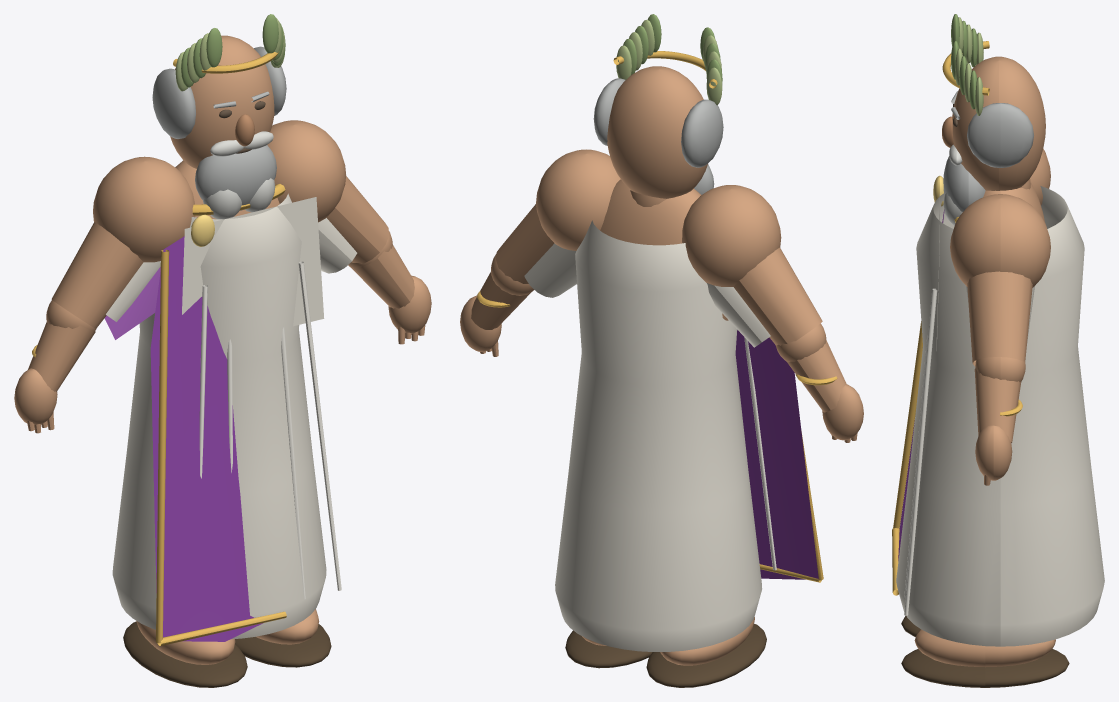
File: eratosthenes.glb
3 views of the same model, side by side, from view 1: azimuth 30°, elevation 25°; view 2: azimuth 150°, elevation 25°; view 3: azimuth 270°, elevation 25° (orthographic). The views are drawn at different scales.
Parts seen in each view (by area): view 1: Eratosthenes flowing white chiton, Eratosthenes cloak drape, Eratosthenes shoulder -1, Eratosthenes face, Eratosthenes shoulder 1, Eratosthenes upper arm -1, Eratosthenes chiton bodice, Eratosthenes sole -1, Eratosthenes cloak gold edge 1, Eratosthenes short beard, Eratosthenes upper arm 1, Eratosthenes forearm -1 (+19 smaller); view 2: Eratosthenes flowing white chiton, Eratosthenes cloak drape, Eratosthenes face, Eratosthenes shoulder -1, Eratosthenes shoulder 1, Eratosthenes upper arm -1, Eratosthenes torso, Eratosthenes sole -1, Eratosthenes upper arm 1, Eratosthenes temple grey hair -1, Eratosthenes forearm -1, Eratosthenes chiton sleeve 1 (+10 smaller); view 3: Eratosthenes flowing white chiton, Eratosthenes shoulder 1, Eratosthenes face, Eratosthenes upper arm 1, Eratosthenes sole 1, Eratosthenes temple grey hair 1, Eratosthenes foot 1, Eratosthenes forearm 1, Eratosthenes chiton pleat 0.16, Eratosthenes hand 1, Eratosthenes cloak gold edge 1, Eratosthenes short beard (+6 smaller).
Boxes of the visible parts, x1=… form: Eratosthenes flowing white chiton: x1=112, y1=193, x2=326, y2=639; Eratosthenes cloak drape: x1=150, y1=236, x2=263, y2=641; Eratosthenes shoulder -1: x1=93, y1=156, x2=195, y2=262; Eratosthenes face: x1=170, y1=35, x2=274, y2=168; Eratosthenes shoulder 1: x1=267, y1=120, x2=345, y2=222; Eratosthenes upper arm -1: x1=51, y1=222, x2=143, y2=328; Eratosthenes chiton bodice: x1=182, y1=197, x2=324, y2=326; Eratosthenes sole -1: x1=123, y1=621, x2=247, y2=687; Eratosthenes cloak gold edge 1: x1=156, y1=249, x2=169, y2=643; Eratosthenes short beard: x1=195, y1=145, x2=276, y2=210; Eratosthenes upper arm 1: x1=326, y1=176, x2=388, y2=263; Eratosthenes forearm -1: x1=28, y1=322, x2=95, y2=391; Eratosthenes flowing white chiton: x1=555, y1=220, x2=762, y2=651; Eratosthenes cloak drape: x1=735, y1=330, x2=818, y2=579; Eratosthenes face: x1=607, y1=66, x2=707, y2=198; Eratosthenes shoulder -1: x1=682, y1=185, x2=781, y2=286; Eratosthenes shoulder 1: x1=536, y1=149, x2=620, y2=250; Eratosthenes upper arm -1: x1=733, y1=247, x2=822, y2=345; Eratosthenes torso: x1=600, y1=179, x2=728, y2=320; Eratosthenes sole -1: x1=646, y1=623, x2=766, y2=687; Eratosthenes upper arm 1: x1=496, y1=204, x2=554, y2=283; Eratosthenes temple grey hair -1: x1=681, y1=99, x2=723, y2=167; Eratosthenes forearm -1: x1=786, y1=340, x2=846, y2=412; Eratosthenes chiton sleeve 1: x1=524, y1=243, x2=576, y2=297; Eratosthenes flowing white chiton: x1=896, y1=186, x2=1104, y2=646; Eratosthenes shoulder 1: x1=950, y1=194, x2=1050, y2=287; Eratosthenes face: x1=952, y1=56, x2=1045, y2=190; Eratosthenes upper arm 1: x1=967, y1=271, x2=1032, y2=365; Eratosthenes sole 1: x1=901, y1=649, x2=1069, y2=687; Eratosthenes temple grey hair 1: x1=967, y1=103, x2=1033, y2=167; Eratosthenes foot 1: x1=914, y1=629, x2=1055, y2=667; Eratosthenes forearm 1: x1=974, y1=368, x2=1021, y2=442; Eratosthenes chiton pleat 0.16: x1=904, y1=288, x2=937, y2=615; Eratosthenes hand 1: x1=975, y1=425, x2=1012, y2=480; Eratosthenes cloak gold edge 1: x1=893, y1=321, x2=922, y2=528; Eratosthenes short beard: x1=943, y1=156, x2=985, y2=211.
Size of the model in its own units: 1.38 by 2.06 by 0.632.
